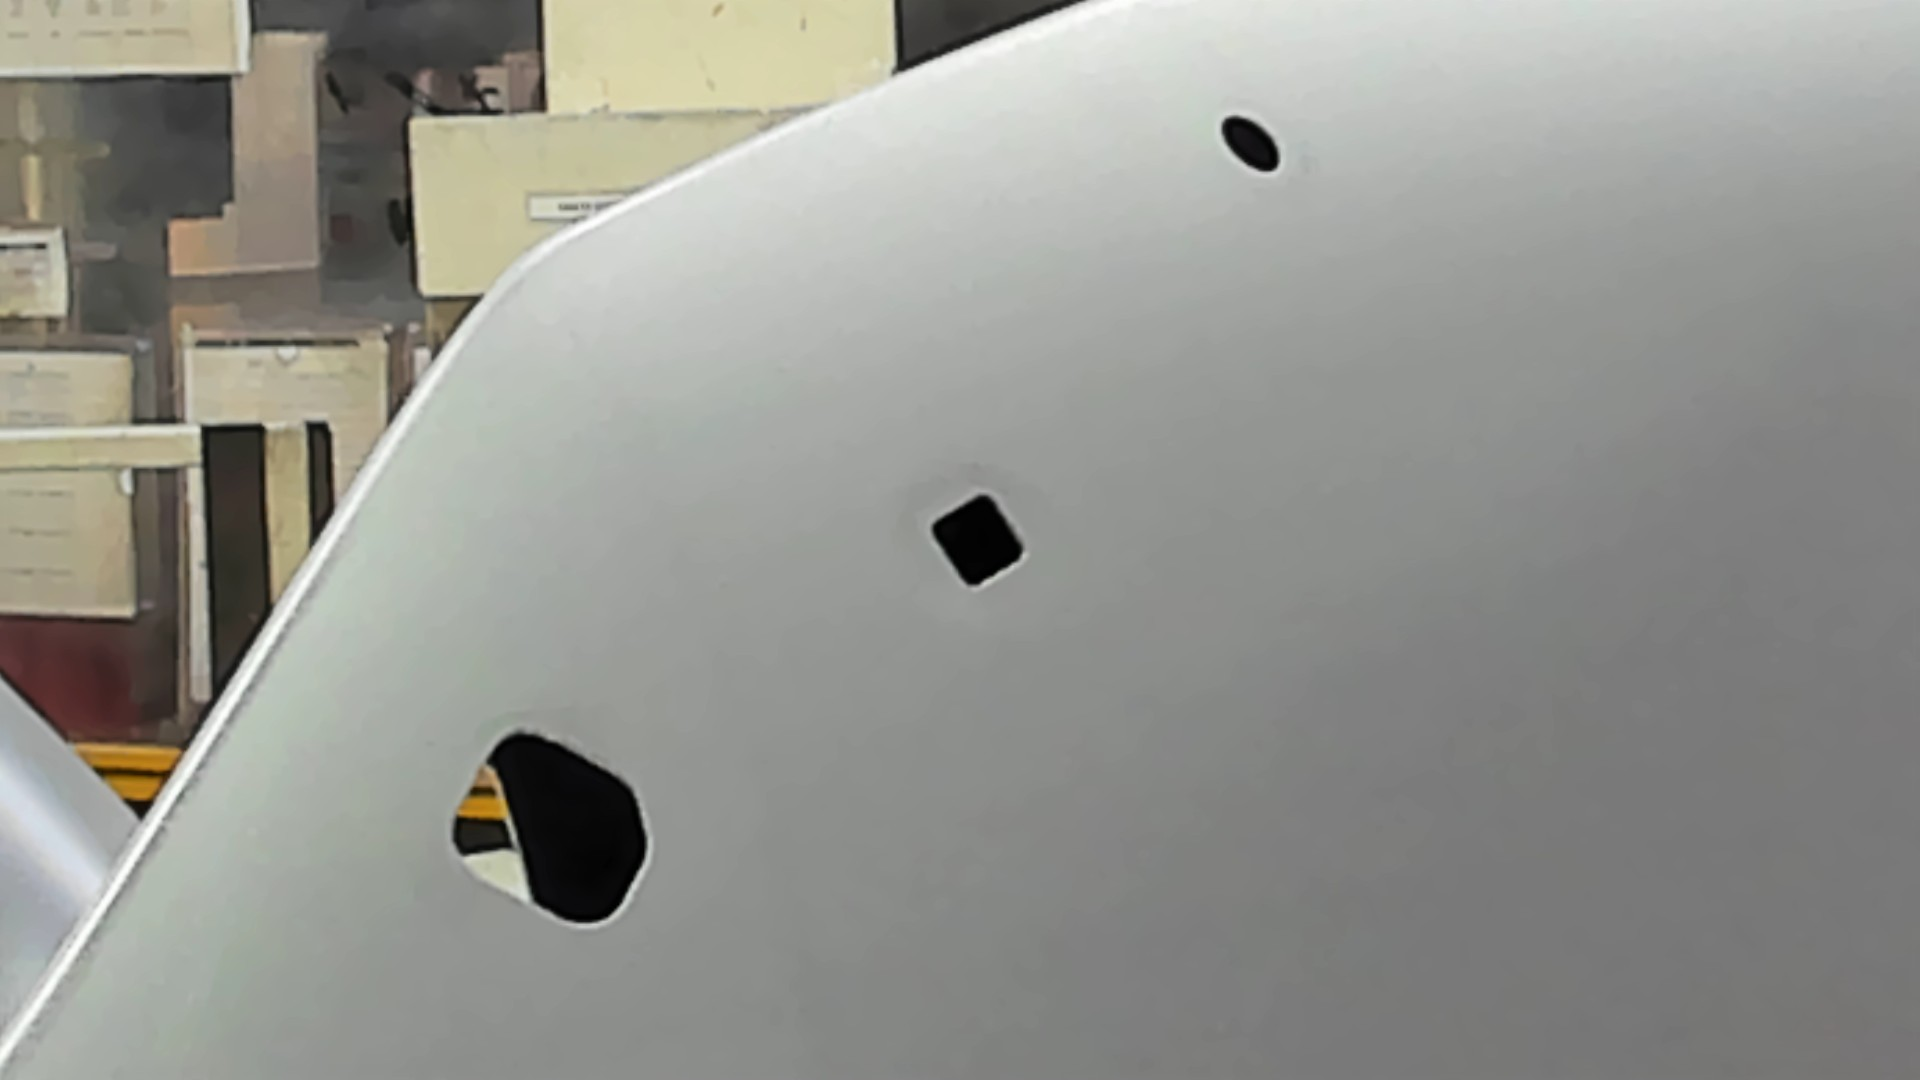capo: (1031, 174, 1920, 1080)
chico: (1216, 109, 1286, 178)
grande: (447, 723, 659, 938)
mediano: (924, 481, 1034, 593)
